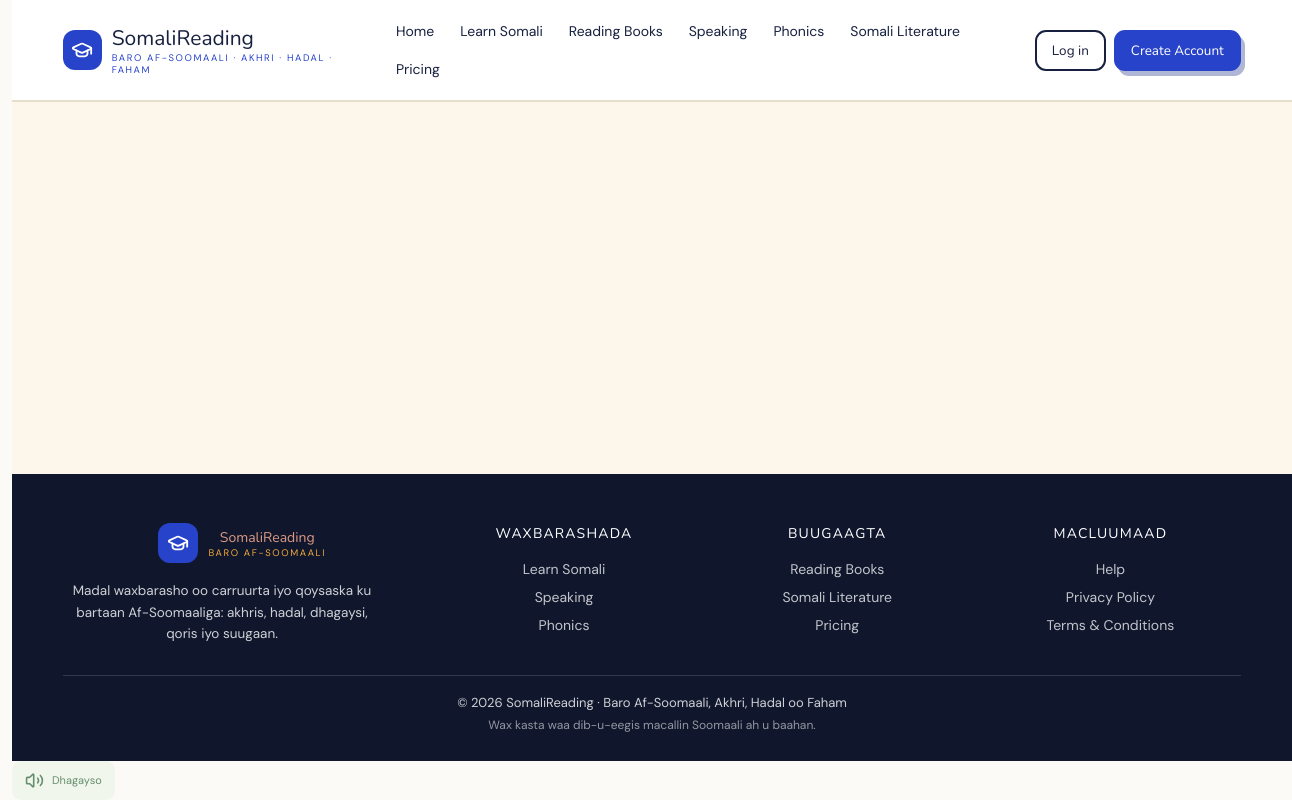
Test: offers a stop control after mocked approved playback
(page scrolled)
Click the button "Dhagayso".
click(63, 780)  # box left=12, top=761, right=115, bottom=799
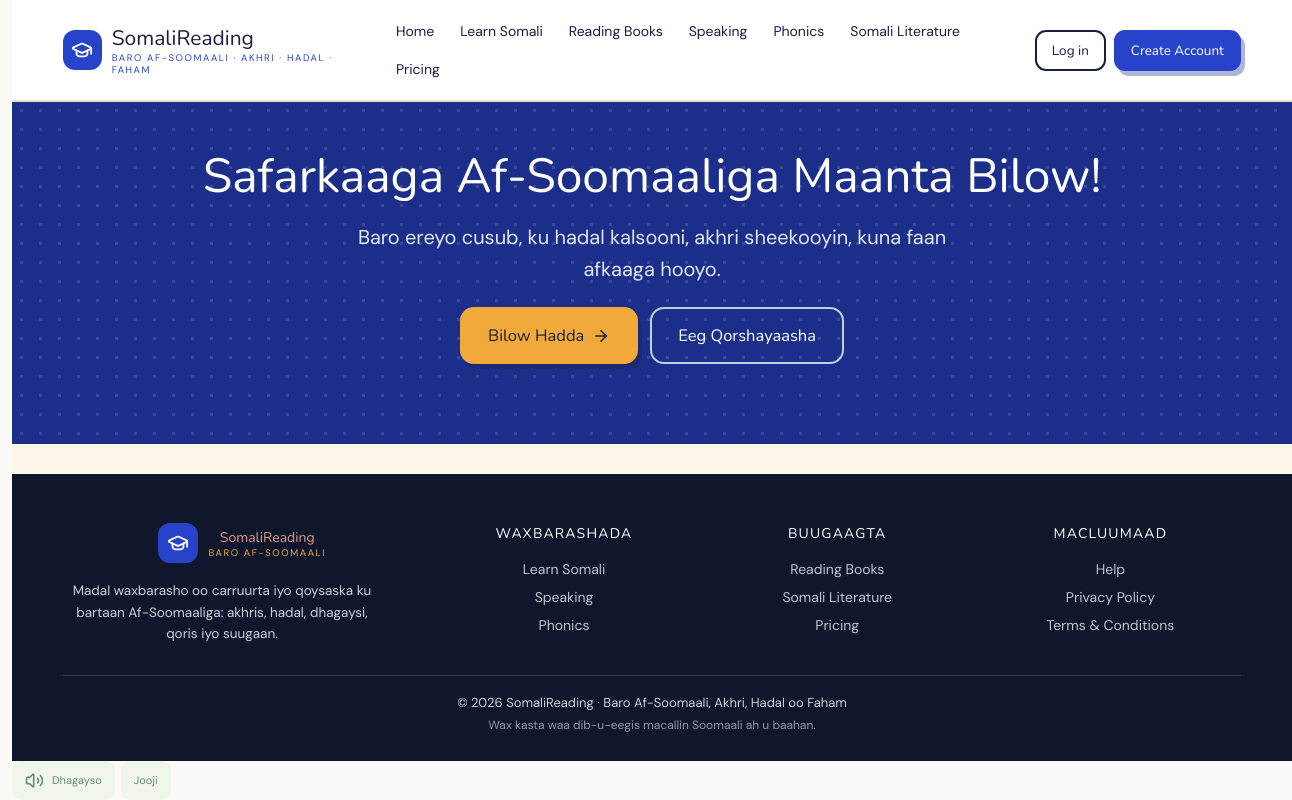
Click the button "Jooji".
click(146, 780)  # box left=121, top=761, right=171, bottom=799
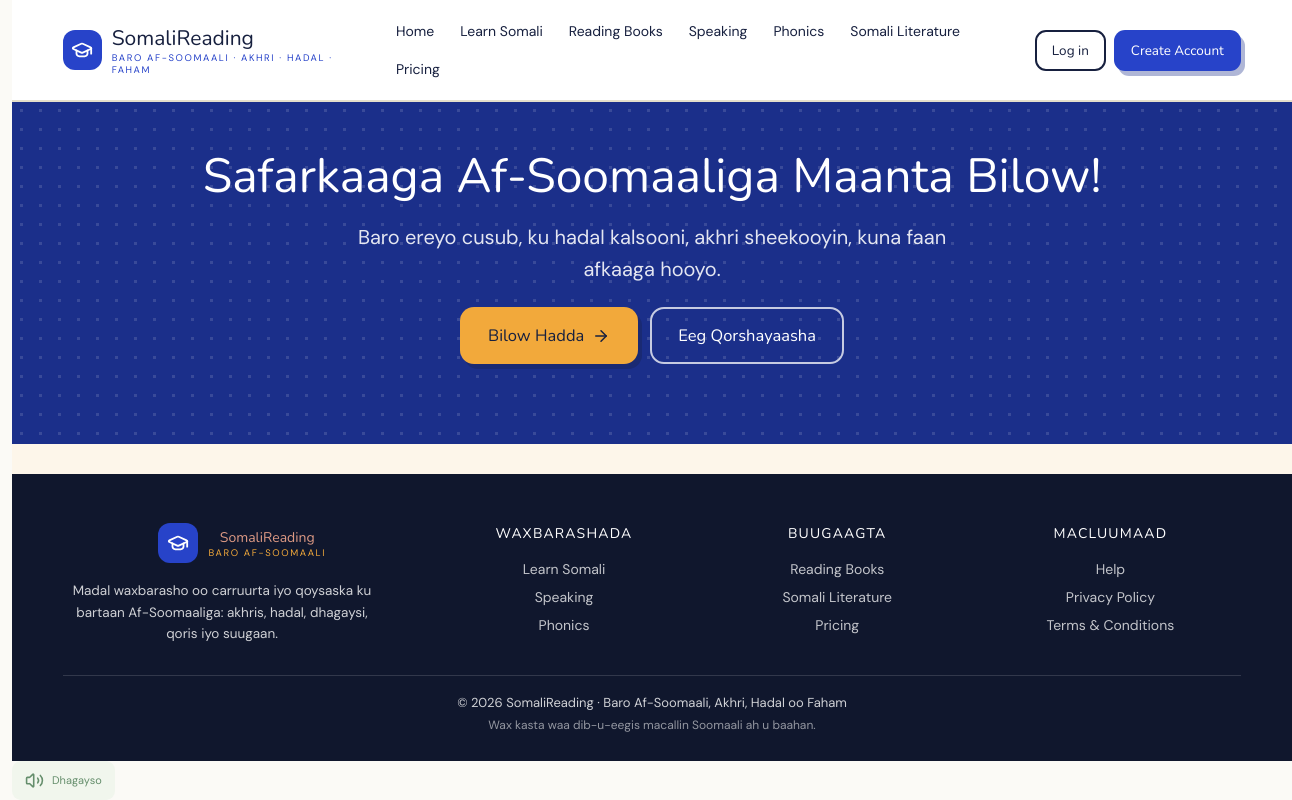
Expected: the button "Jooji" is gone
